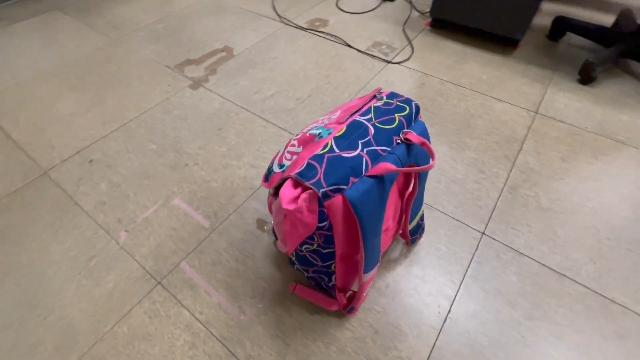Backpack: (254, 84, 442, 325)
